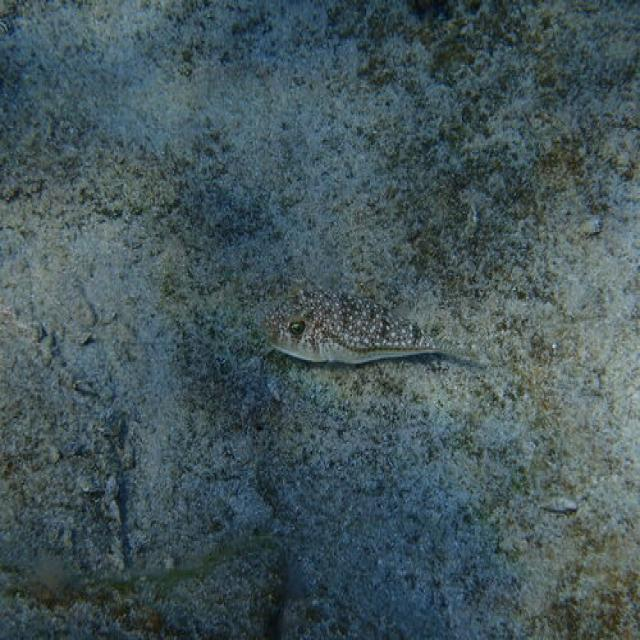Balik: (267, 291, 441, 363)
